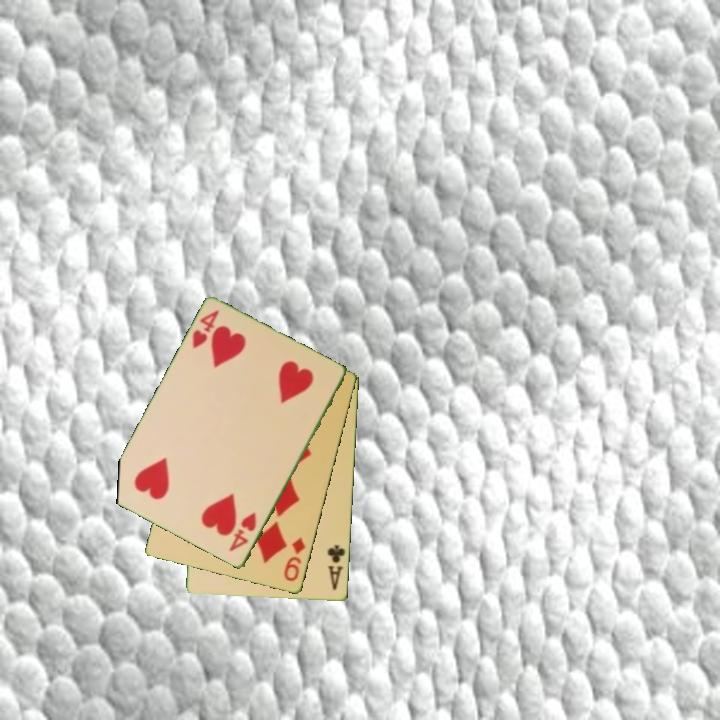4h: (226, 508, 259, 555), (189, 306, 222, 352)
9d: (281, 534, 309, 585)
Ac: (324, 542, 348, 593)
